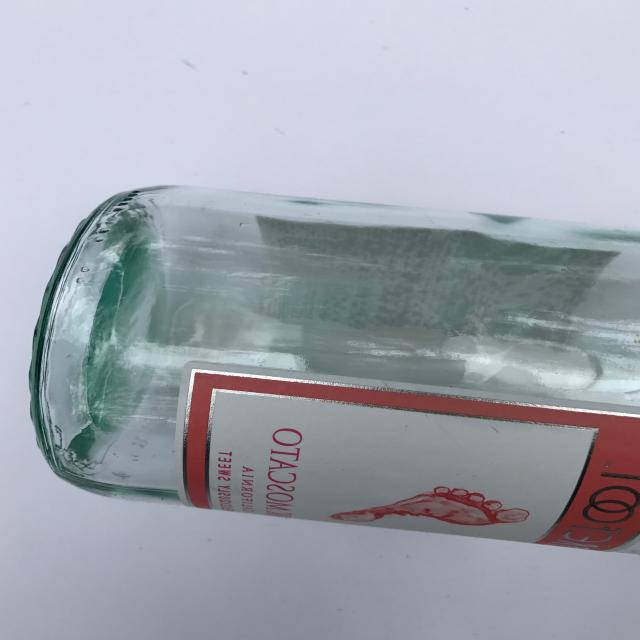glass: (28, 183, 640, 553)
